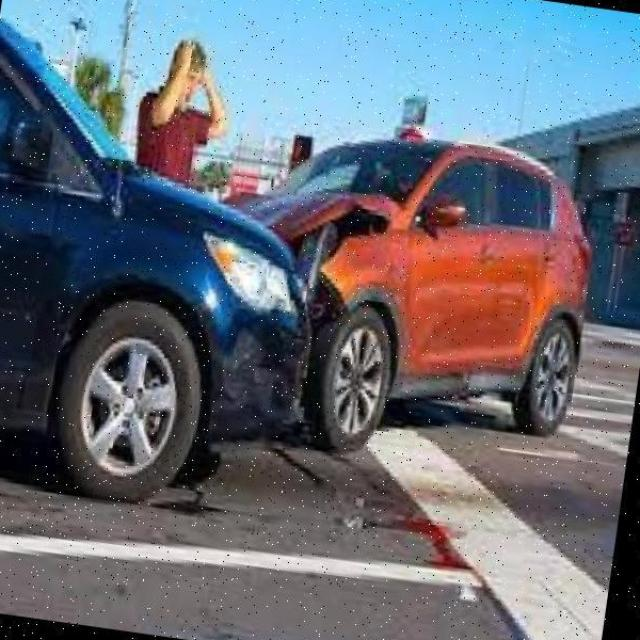accident: (72, 114, 524, 498)
